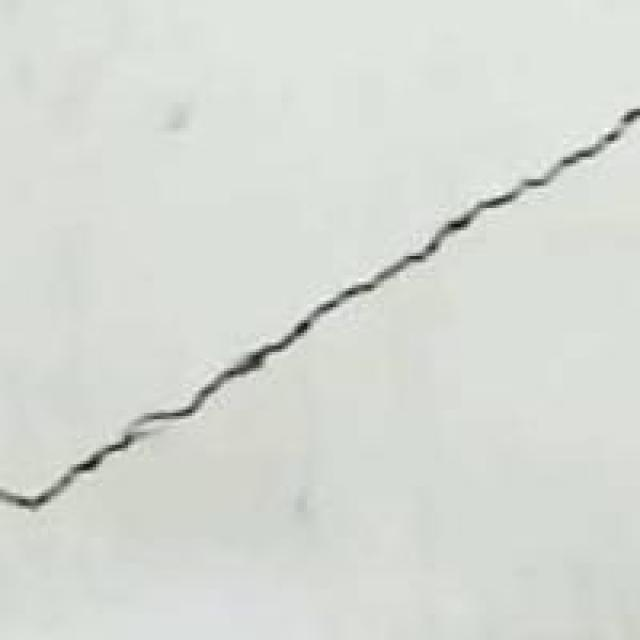crack: (0, 96, 637, 528)
